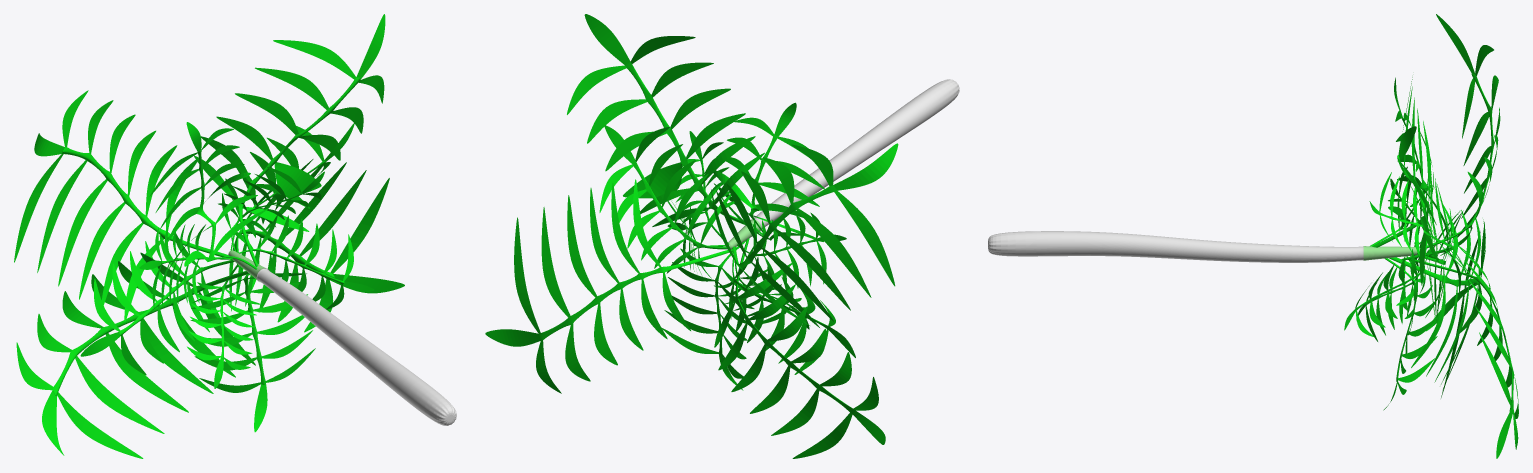
The model's file is Palmtree.fbx.
3 renders of one model, left to right at view 1: azimuth 30°, elevation 25°; view 2: azimuth 150°, elevation 25°; view 3: azimuth 270°, elevation 25°, orthographic. The views are drawn at different scales.
Visible parts, largest first — view 1: Cylinder.009; view 2: Cylinder.009; view 3: Cylinder.009.
Part boxes in pixels (left/top/right/bottom): Cylinder.009: left=14, top=14, right=456, bottom=458; Cylinder.009: left=485, top=14, right=959, bottom=458; Cylinder.009: left=988, top=14, right=1518, bottom=458.
Bounding box in the file's own units: 22027 × 20622 × 25971.
